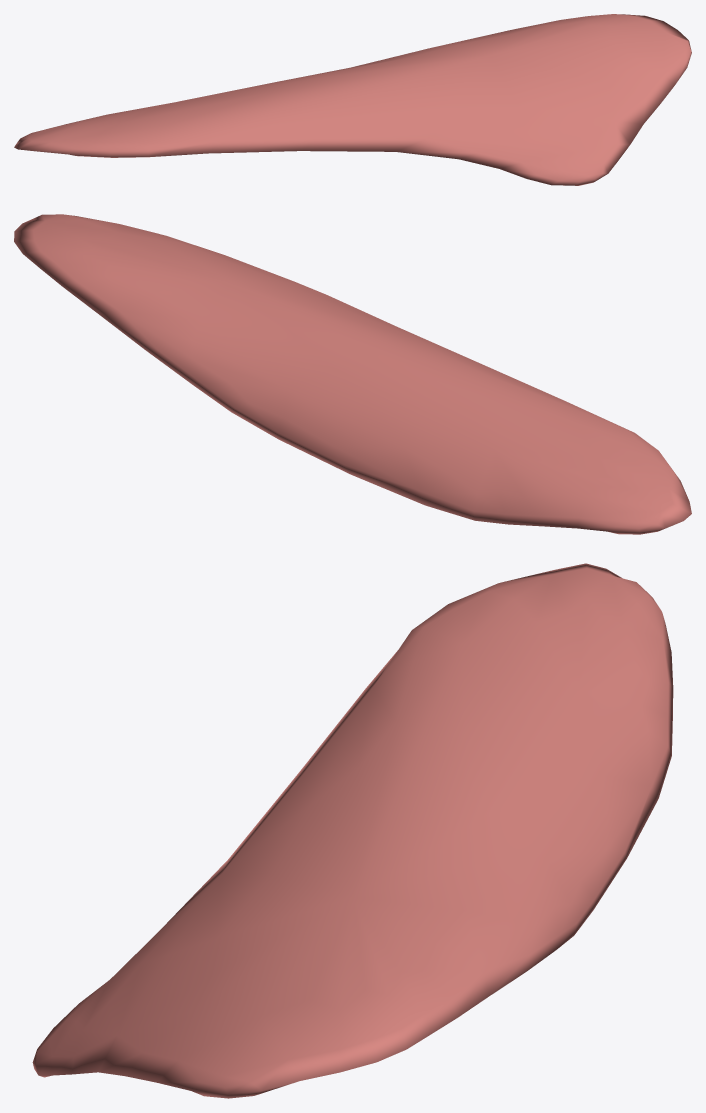
The picture shows the model from 3 angles, top to bottom: view 1: azimuth 30°, elevation 25°; view 2: azimuth 150°, elevation 25°; view 3: azimuth 270°, elevation 25°; orthographic projection. The views are drawn at different scales.
Parts seen in each view (by area): view 1: ZA_14ab8d932fbcf80d; view 2: ZA_14ab8d932fbcf80d; view 3: ZA_14ab8d932fbcf80d.
Boxes of the visible parts, x1,y1,x2,y2 form: ZA_14ab8d932fbcf80d: (14, 14, 691, 185); ZA_14ab8d932fbcf80d: (14, 214, 691, 534); ZA_14ab8d932fbcf80d: (32, 563, 673, 1098).
Bounding box in the file's own units: 0.0273 × 0.00353 × 0.0128.
